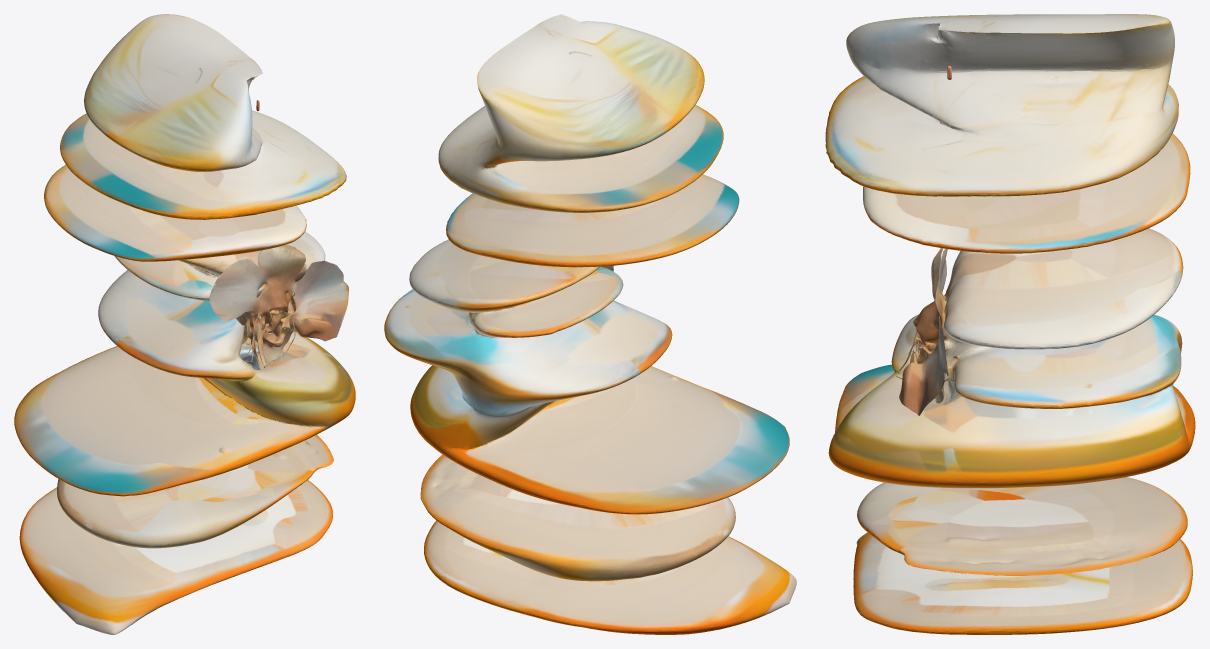
3 renders of one model, left to right at view 1: azimuth 30°, elevation 25°; view 2: azimuth 150°, elevation 25°; view 3: azimuth 270°, elevation 25°, orthographic. The views are drawn at different scales.
Visible parts, largest first — view 1: model; view 2: model; view 3: model.
Part boxes in pixels (x1,y1,x2,y2): model: [14, 14, 355, 634]; model: [384, 14, 796, 634]; model: [825, 14, 1195, 634].
Bounding box in the file's own units: 1.21 × 1.9 × 1.02.
Materials: 1 (1 with a texture image).
